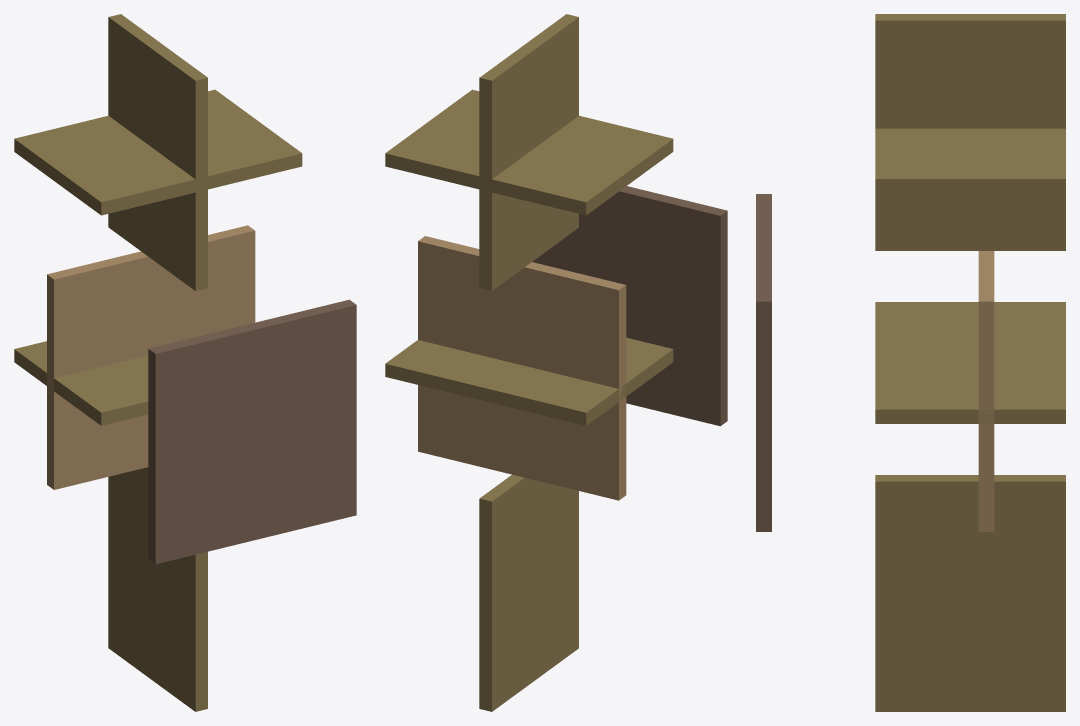
File: wooden_crate_v1.glb
3 renders of one model, left to right at view 1: azimuth 30°, elevation 25°; view 2: azimuth 150°, elevation 25°; view 3: azimuth 270°, elevation 25°, orthographic. The views are drawn at different scales.
Visible parts, largest first — view 1: top, base, side_1, side_2, side_3, side_0; view 2: base, top, side_3, side_1, side_2, side_0; view 3: side_3, side_1, side_0, side_2, top, base.
Part boxes in pixels (left/top/right/bottom): top: left=148, top=299, right=356, bottom=564; base: left=47, top=225, right=255, bottom=489; side_1: left=108, top=14, right=207, bottom=290; side_2: left=14, top=89, right=302, bottom=215; side_3: left=108, top=467, right=207, bottom=711; side_0: left=14, top=341, right=148, bottom=425; base: left=418, top=236, right=626, bottom=500; top: left=532, top=186, right=727, bottom=426; side_3: left=479, top=474, right=578, bottom=711; side_1: left=479, top=14, right=578, bottom=290; side_2: left=385, top=89, right=673, bottom=215; side_0: left=385, top=337, right=673, bottom=425; side_3: left=875, top=475, right=1065, bottom=711; side_1: left=875, top=14, right=1065, bottom=250; side_0: left=875, top=302, right=1065, bottom=423; side_2: left=875, top=128, right=1065, bottom=193; top: left=756, top=194, right=771, bottom=531; base: left=978, top=251, right=994, bottom=531.
Bounding box in the file's own units: 80 × 240 × 97.5.
